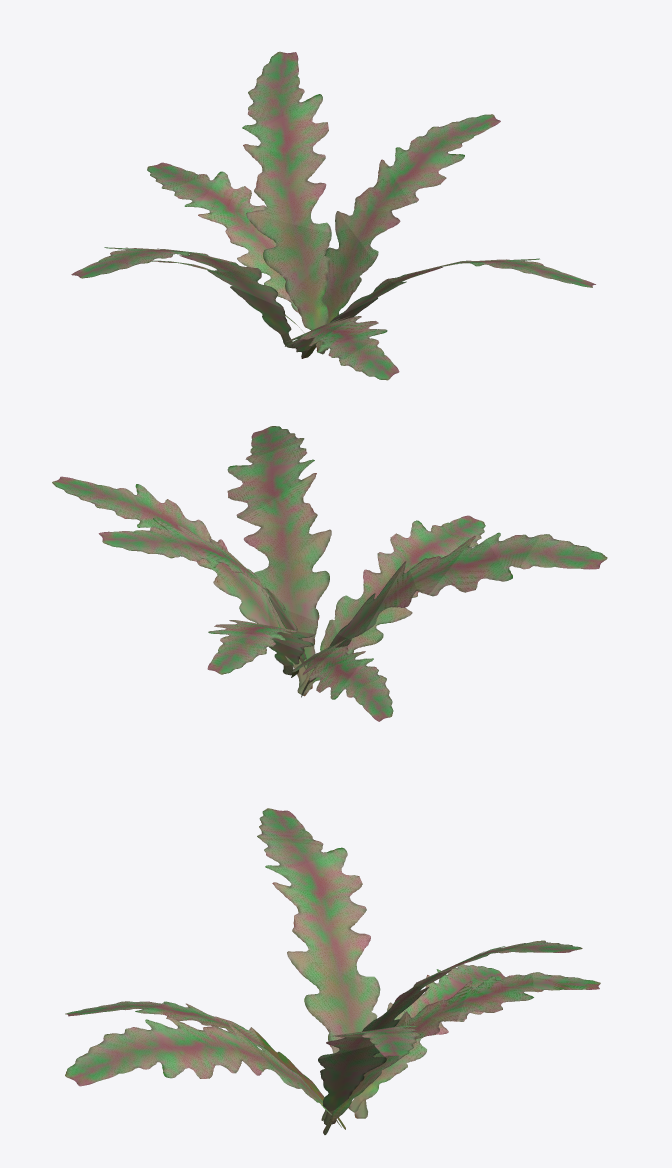
The model's file is Spindlewit B1.fbx.
The picture shows the model from 3 angles, top to bottom: view 1: azimuth 30°, elevation 25°; view 2: azimuth 150°, elevation 25°; view 3: azimuth 270°, elevation 25°; orthographic projection. The views are drawn at different scales.
Parts seen in each view (by area): view 1: Spindlewit B1; view 2: Spindlewit B1; view 3: Spindlewit B1.
Boxes of the visible parts, x1,y1,x2,y2 form: Spindlewit B1: (71, 51, 595, 380); Spindlewit B1: (52, 426, 607, 721); Spindlewit B1: (65, 808, 600, 1134).
Size of the model in its own units: 124 by 47.49 by 110.
